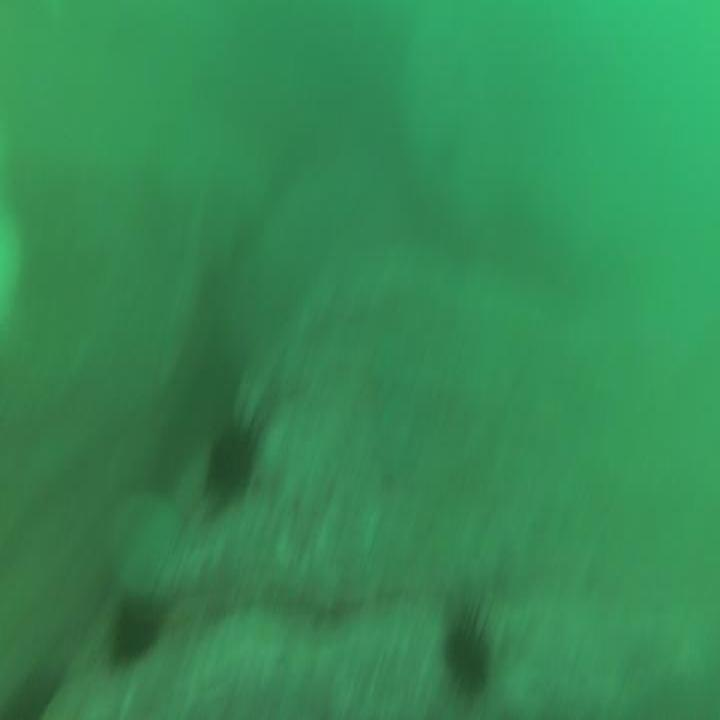echinus: (448, 624, 491, 700), (208, 425, 253, 492), (114, 601, 156, 665)
